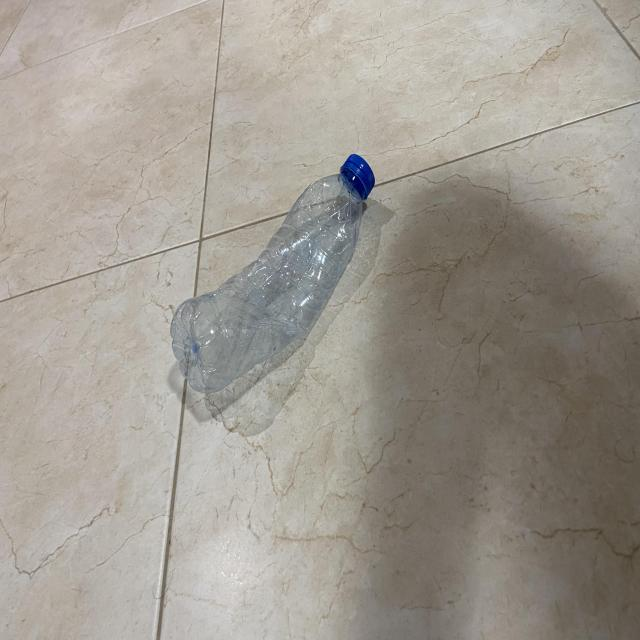plastic: (167, 149, 377, 394)
